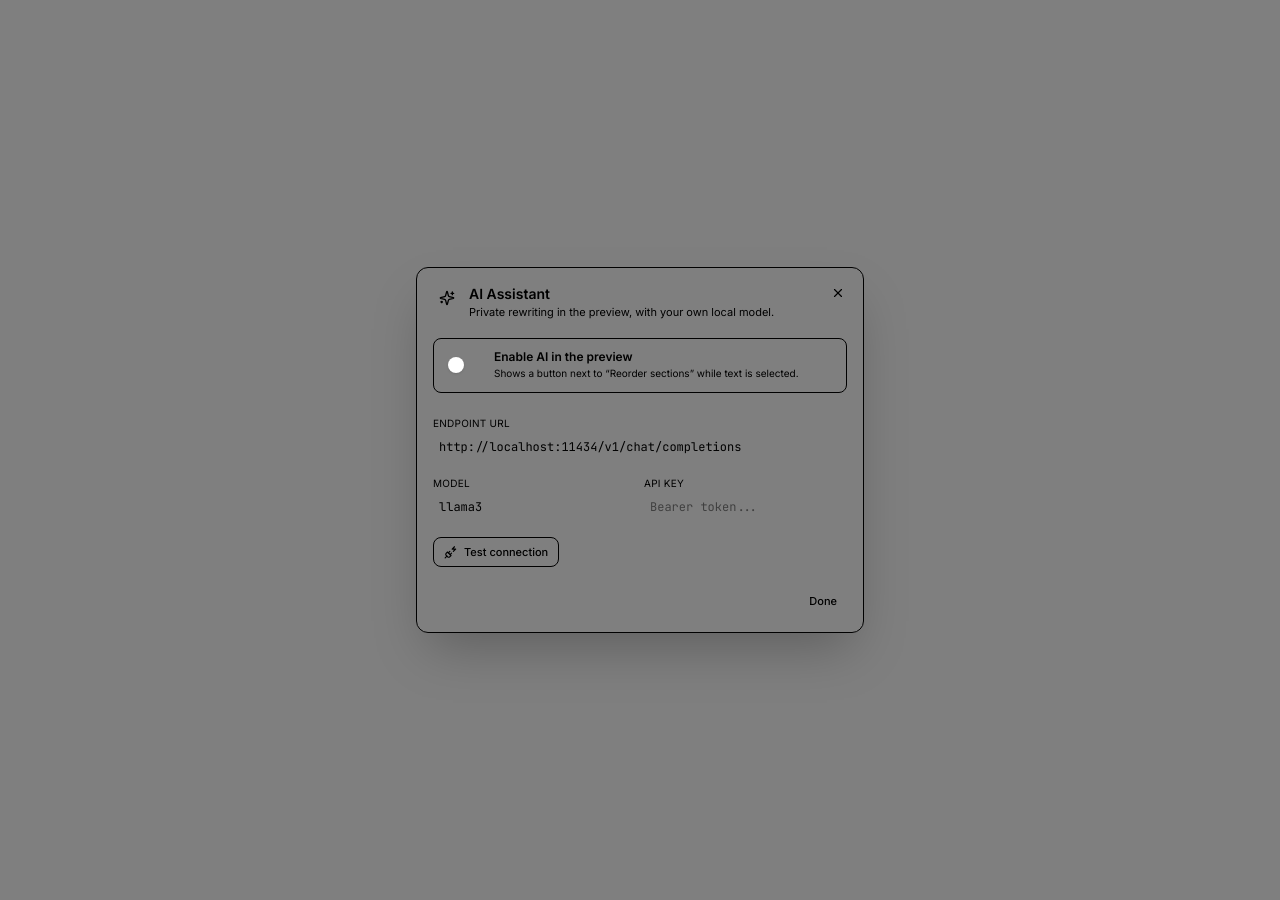
Scenario: AIAssistantModal › explains when the endpoint does not answer
This screenshot has width=1280, height=900.
Click the button "Test connection" at (496, 552), box [433,537,559,567]
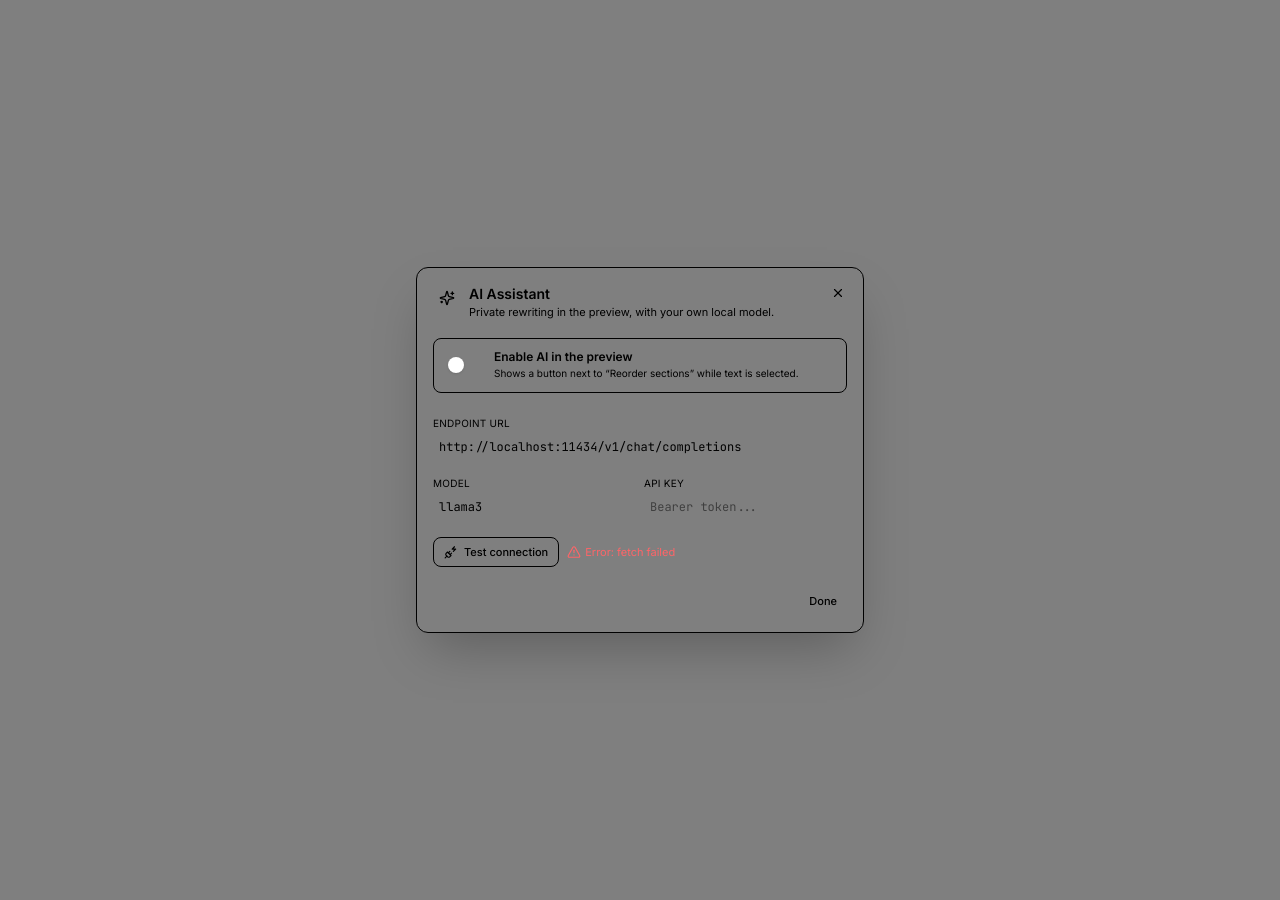
Result: the text "Error: fetch failed" is shown at [567,544,675,560]
